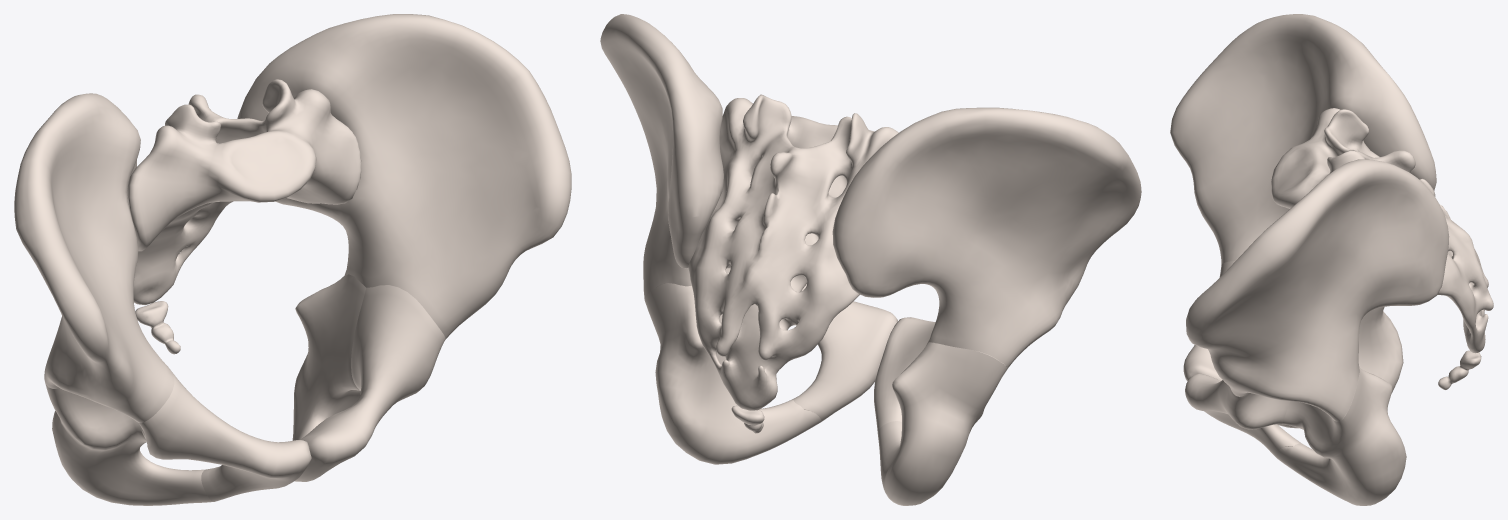
The model's file is pelvis.glb.
3 renders of one model, left to right at view 1: azimuth 30°, elevation 25°; view 2: azimuth 150°, elevation 25°; view 3: azimuth 270°, elevation 25°, orthographic. The views are drawn at different scales.
Visible parts, largest first — view 1: VH_M_ilium_compact_bone_L, VH_M_ilium_compact_bone_R, VH_M_sacrum, VH_M_pubis_compact_bone_L, VH_M_ischium_compact_bone_R, VH_M_pubis_compact_bone_R, VH_M_ischium_compact_bone_L, VH_M_coccyx; view 2: VH_M_ilium_compact_bone_R, VH_M_sacrum, VH_M_ilium_compact_bone_L, VH_M_ischium_compact_bone_L, VH_M_ischium_compact_bone_R, VH_M_pubis_compact_bone_L, VH_M_pubis_compact_bone_R; view 3: VH_M_ilium_compact_bone_L, VH_M_ilium_compact_bone_R, VH_M_ischium_compact_bone_L, VH_M_sacrum, VH_M_pubis_compact_bone_L, VH_M_ischium_compact_bone_R, VH_M_pubis_compact_bone_R, VH_M_coccyx.
Part boxes in pixels (<box>): VH_M_ilium_compact_bone_L: <box>237,14,571,338</box>; VH_M_ilium_compact_bone_R: <box>14,93,174,423</box>; VH_M_sacrum: <box>127,79,361,305</box>; VH_M_pubis_compact_bone_L: <box>295,285,445,481</box>; VH_M_ischium_compact_bone_R: <box>45,384,214,505</box>; VH_M_pubis_compact_bone_R: <box>139,369,311,501</box>; VH_M_ischium_compact_bone_L: <box>292,274,365,440</box>; VH_M_coccyx: <box>135,301,180,354</box>; VH_M_ilium_compact_bone_R: <box>832,107,1141,367</box>; VH_M_sacrum: <box>688,94,898,410</box>; VH_M_ilium_compact_bone_L: <box>600,14,723,299</box>; VH_M_ischium_compact_bone_L: <box>644,268,821,464</box>; VH_M_ischium_compact_bone_R: <box>878,342,1007,505</box>; VH_M_pubis_compact_bone_L: <box>793,284,897,421</box>; VH_M_pubis_compact_bone_R: <box>874,317,935,433</box>; VH_M_ilium_compact_bone_L: <box>1186,159,1449,421</box>; VH_M_ilium_compact_bone_R: <box>1170,14,1436,264</box>; VH_M_ischium_compact_bone_L: <box>1276,367,1406,505</box>; VH_M_sacrum: <box>1271,108,1493,353</box>; VH_M_pubis_compact_bone_L: <box>1185,373,1299,457</box>; VH_M_ischium_compact_bone_R: <box>1289,307,1403,428</box>; VH_M_pubis_compact_bone_R: <box>1183,261,1291,427</box>; VH_M_coccyx: <box>1438,350,1481,389</box>.
Bounding box in the file's own units: 0.2835 × 0.2185 × 0.1728.
